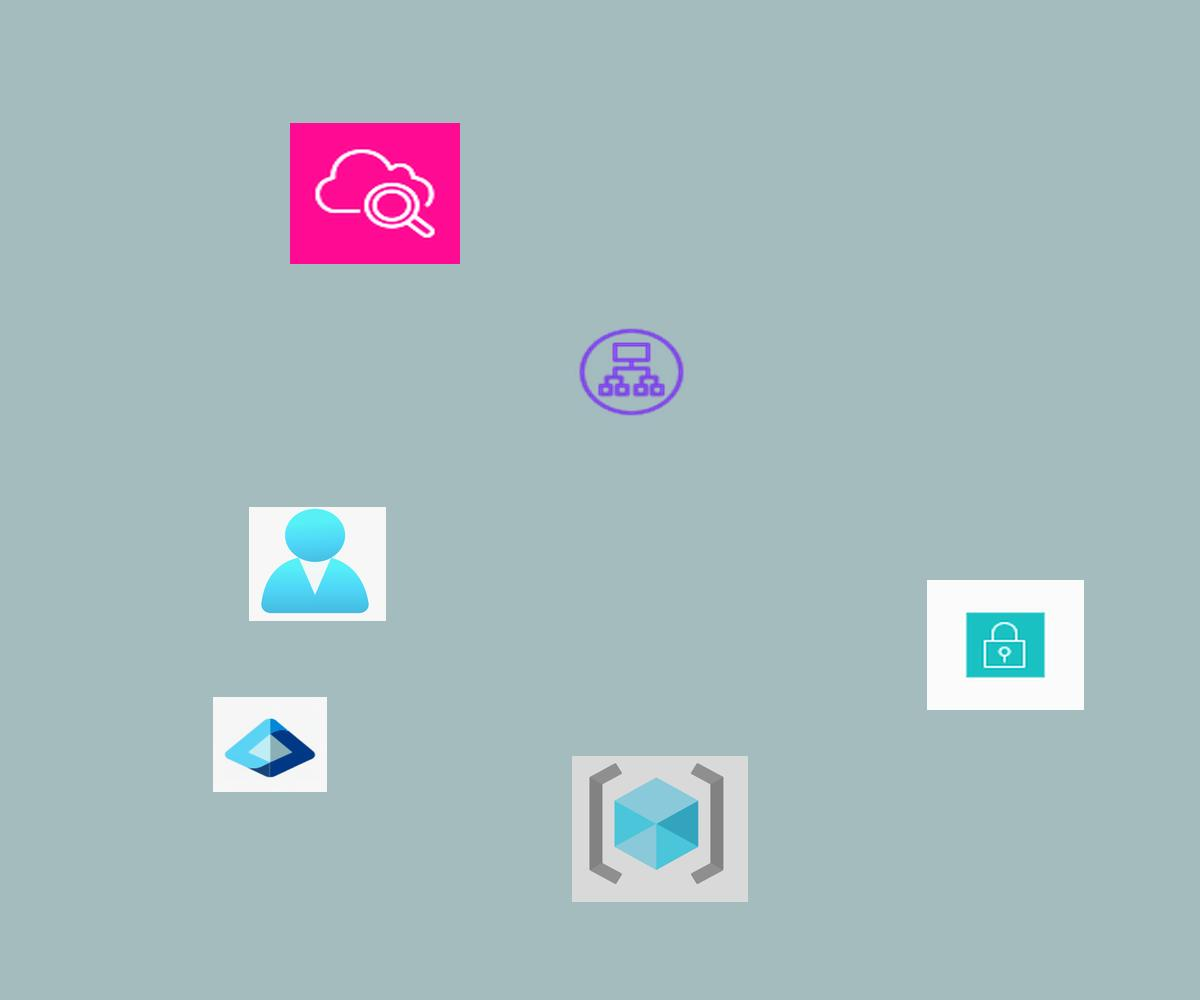AWS-CloudWatch: (290, 123, 460, 264)
AWS-Private-subnet: (927, 580, 1084, 710)
AWS-Res_Elastic-Load-Balancing_Application-Load-Balancer: (575, 325, 688, 419)
Azure_microsoft_entra: (213, 697, 327, 792)
Azure_resource_group: (572, 756, 748, 902)
Azure_users: (249, 507, 386, 621)
